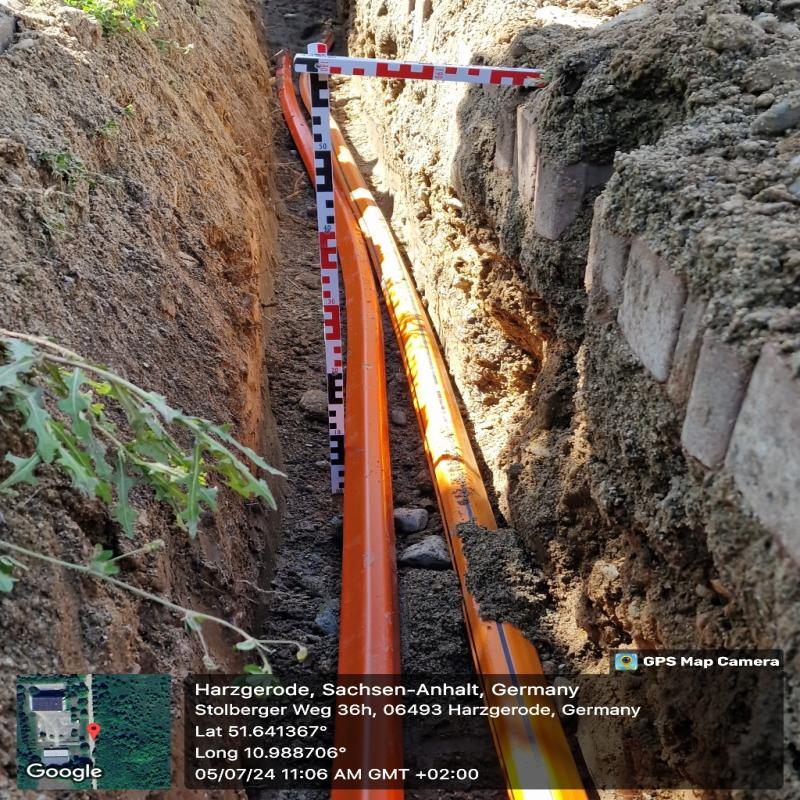Orang-Speednetrohrchen: (283, 112, 542, 678)
